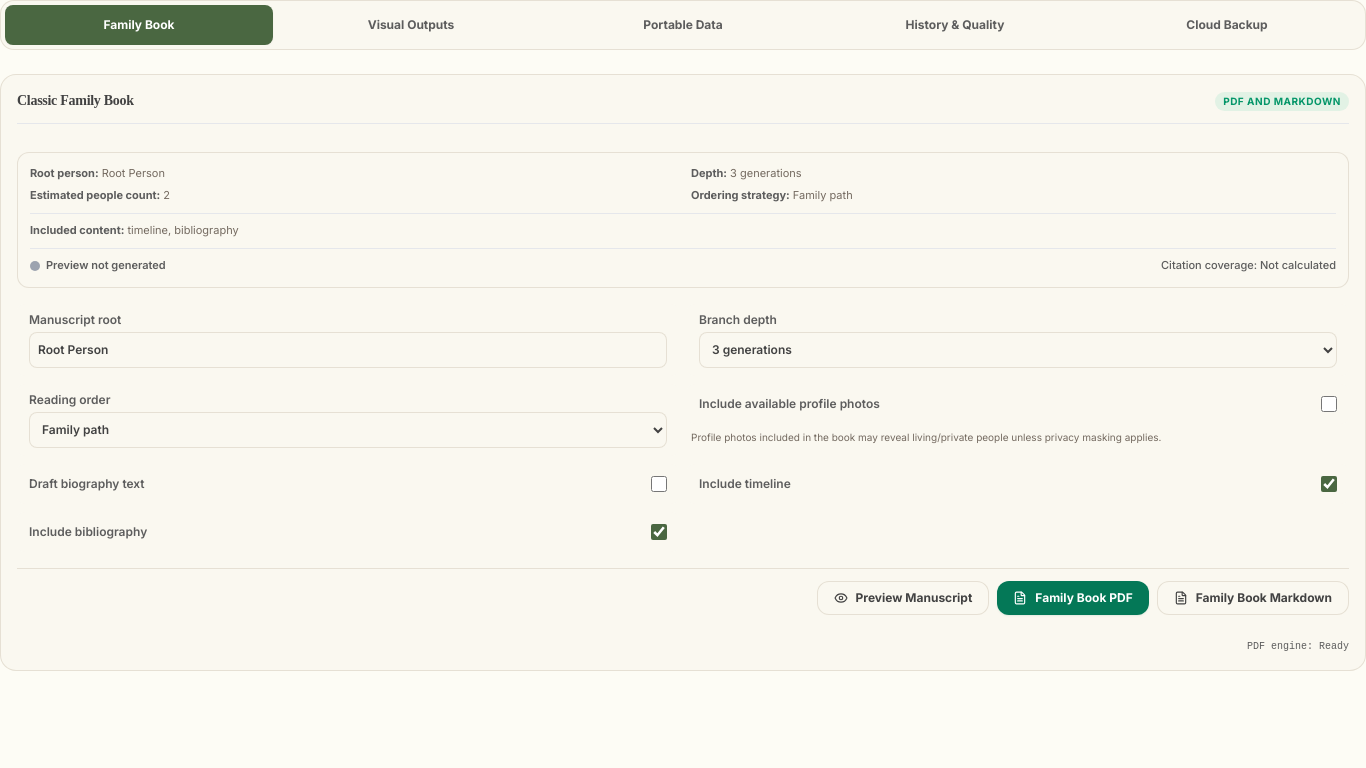
Test: ExportCloudPanel cloud readiness › does not expose Drive file names or actions to roles without cloud management permission
The width and height of the screenshot is (1366, 768).
Click the tab "Cloud Backup".
click(1227, 25)  # box [1093, 5, 1361, 45]
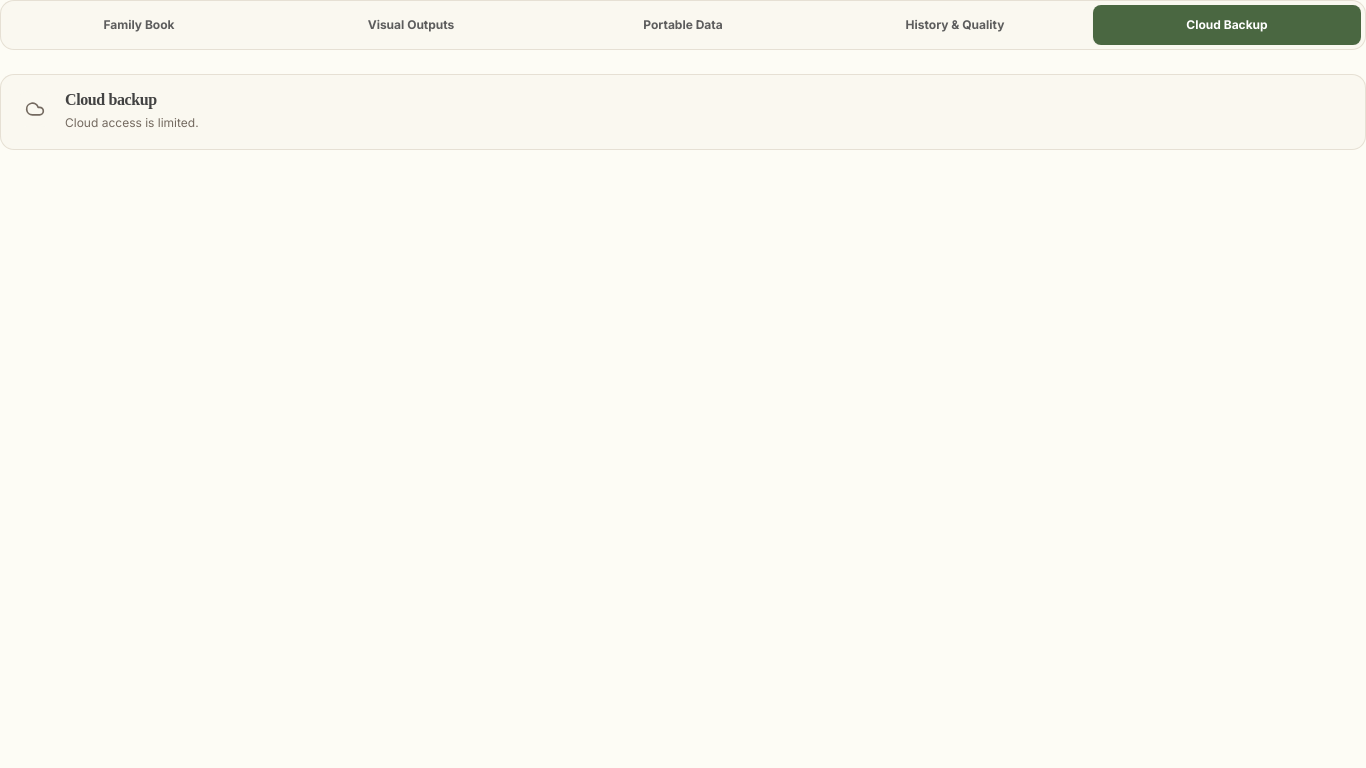
Expected: the text "Cloud access is limited." is shown, [65, 113, 199, 133]
